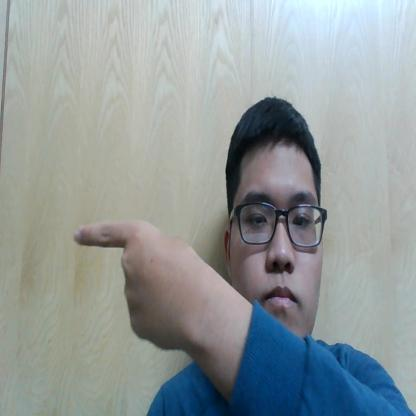right: (72, 216, 220, 385)
